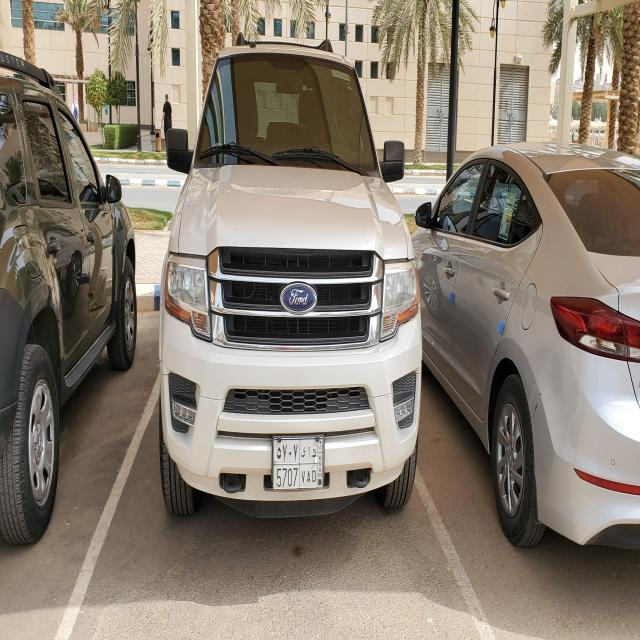license_plate: (272, 436, 325, 490)
